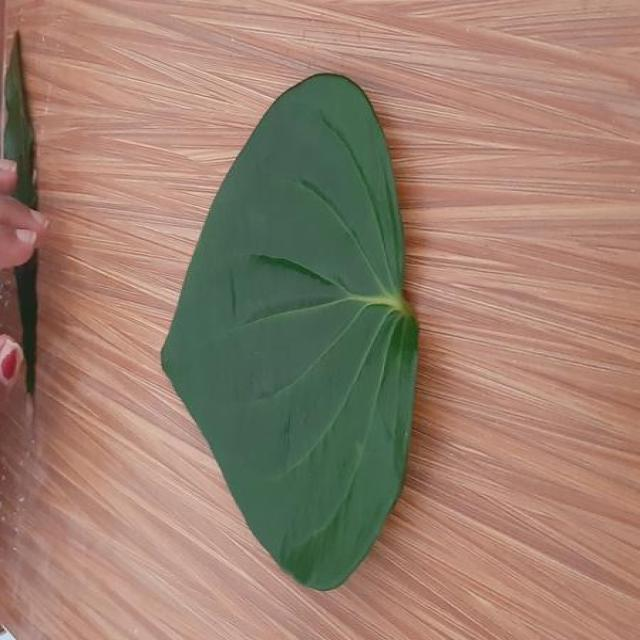betel: (162, 74, 418, 589)
